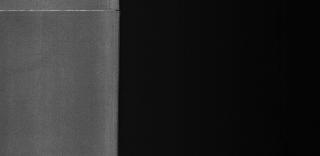welding line: (0, 4, 128, 18)
